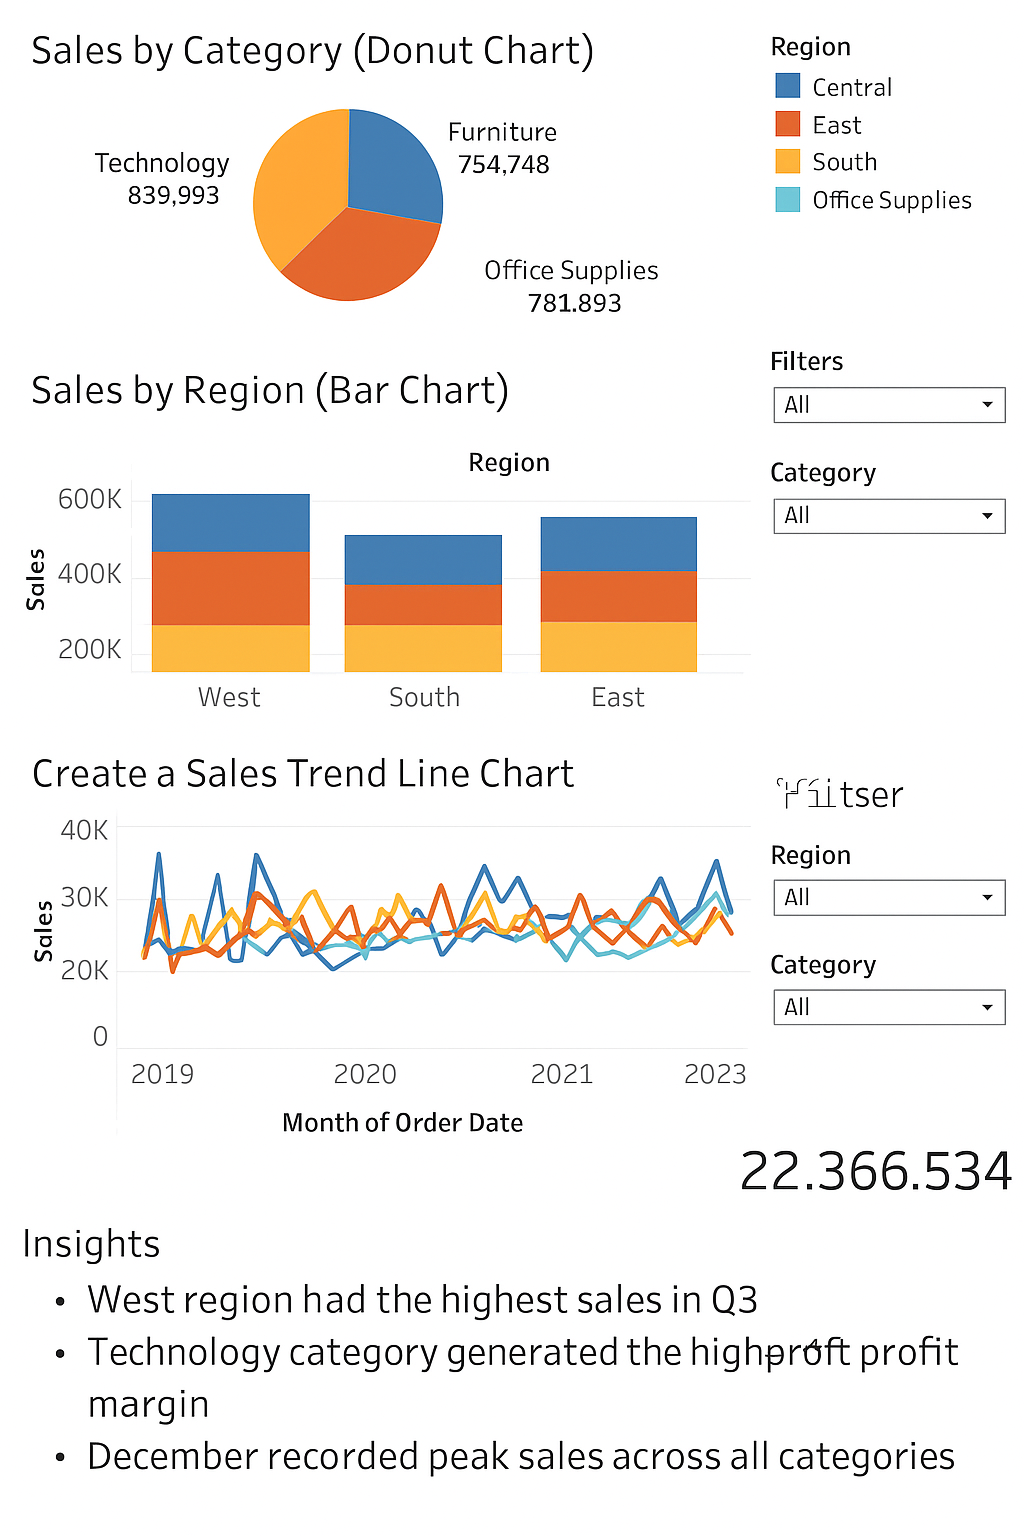

The page's visual inventory and layout, read from the dashboard file:
{"tool":"tableau","page":{"name":"Dashboard 1","canvas":[1000,1000],"units":"permille","ordinal":0},"visuals":[{"type":"worksheet","title":" Sales by Category (Donut Chart)","mark":"Pie","box":[10,14.3,780,323.8]},{"type":"legend","title":" Create a Sales Trend Line Chart","param":"[federated.1swm0840snp3rd1e112k11ajt7e8].[none:Region:nk]","box":[790,14.3,200,412.5]},{"type":"worksheet","title":" Sales by Region (Bar Chart)","mark":"Automatic","rows":["Sales"],"cols":["Region"],"box":[10,338.1,780,323.8]},{"type":"legend","title":" Sales by Category (Donut Chart)","param":"[federated.1swm0840snp3rd1e112k11ajt7e8].[none:Category:nk]","box":[790,426.8,200,408.9]},{"type":"worksheet","title":" Create a Sales Trend Line Chart","mark":"Automatic","rows":["Sales"],"cols":["Order Date"],"box":[10,661.9,780,323.8]},{"type":"legend","title":" Sales by Category (Donut Chart)","param":"[federated.1swm0840snp3rd1e112k11ajt7e8].[sum:Sales:qk]","box":[790,835.7,200,82.2]}]}

Visuals, with their boxes on the dashboard's canvas, which has no fixed pixel size, in thousandths of its width and height (x1, y1, x2, y2). These are canvas units, not pixel positions in the 1024x1536 screenshot, which may show the page scaled, cropped or inside an application window:
" Sales by Category (Donut Chart)" worksheet (Pie marks): <box>10,14,790,338</box>
" Create a Sales Trend Line Chart" legend: <box>790,14,990,427</box>
" Sales by Region (Bar Chart)" worksheet: <box>10,338,790,662</box>
" Sales by Category (Donut Chart)" legend: <box>790,427,990,836</box>
" Create a Sales Trend Line Chart" worksheet: <box>10,662,790,986</box>
" Sales by Category (Donut Chart)" legend: <box>790,836,990,918</box>
